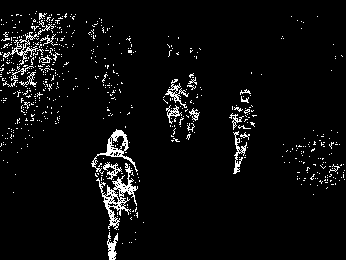person: (91, 127, 141, 260), (231, 88, 256, 177), (163, 77, 185, 144), (183, 72, 201, 142)
